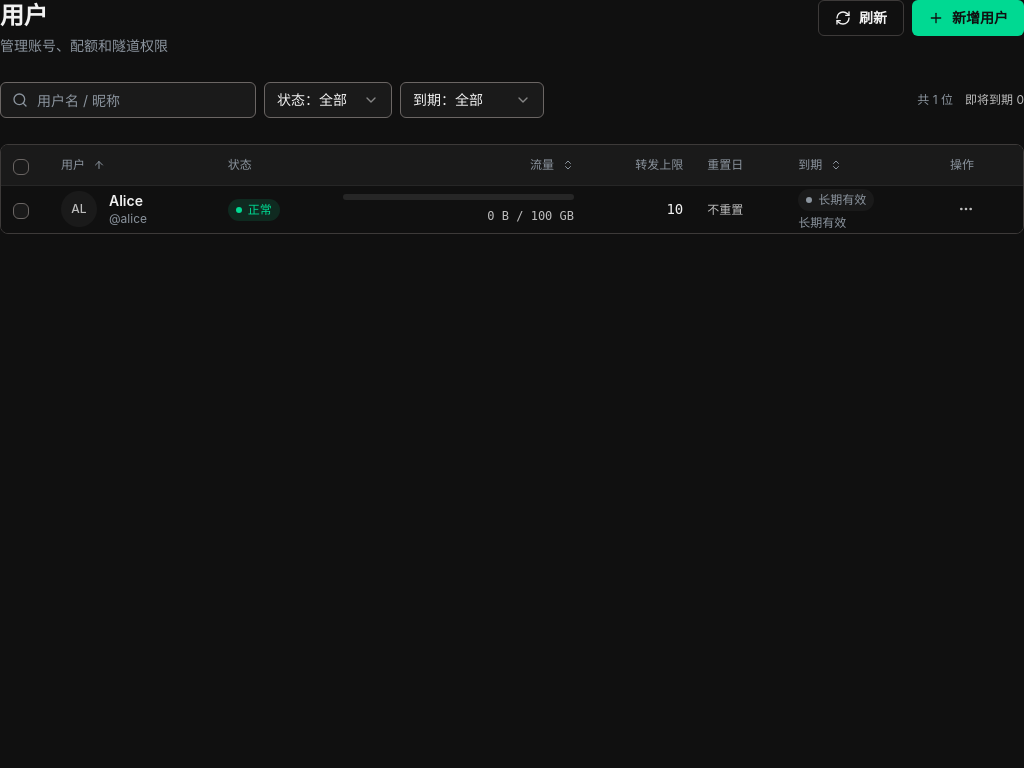
it: 真实页面的无障碍契约 › 真实用户表单的标签关联用户名、密码、配额与必填到期字段
Expected: the text "@alice" is shown, [109, 211, 147, 227]
Click the button "新增用户" at (968, 18), box [912, 0, 1023, 36]
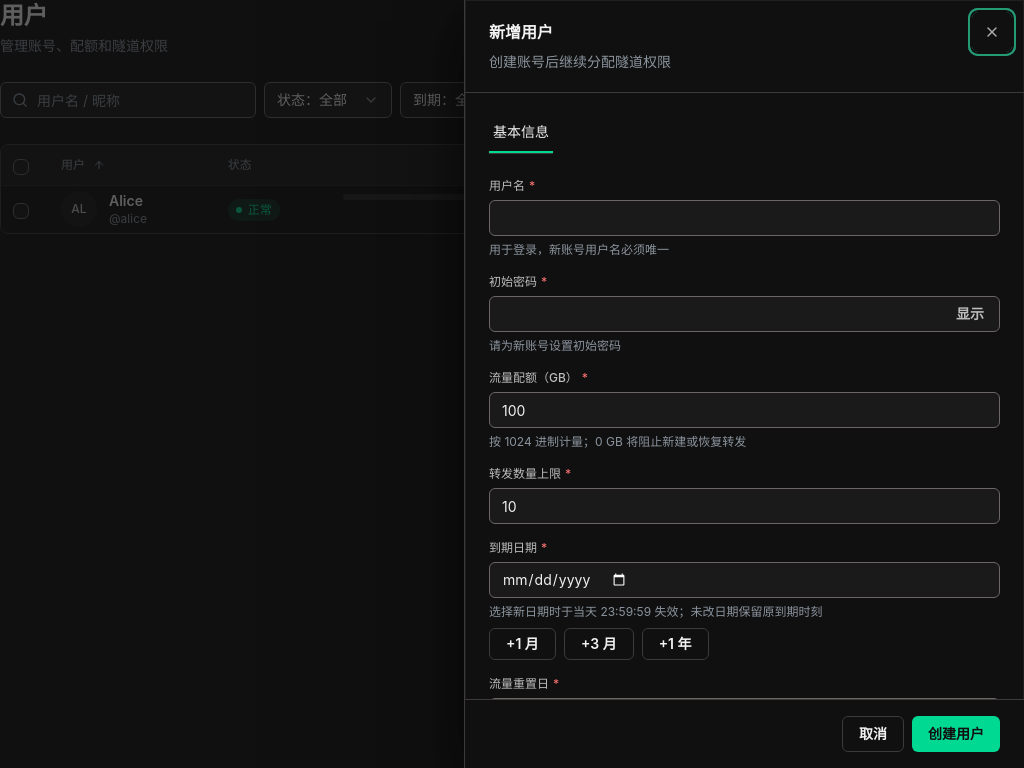
Expected: the field labelled "用户名*" is shown, [489, 200, 1000, 236]
Expected: the password field labelled "初始密码*" is shown, [489, 296, 1000, 332]
Expected: the number field labelled "流量配额（GB）*" is shown, [489, 392, 1000, 428]
